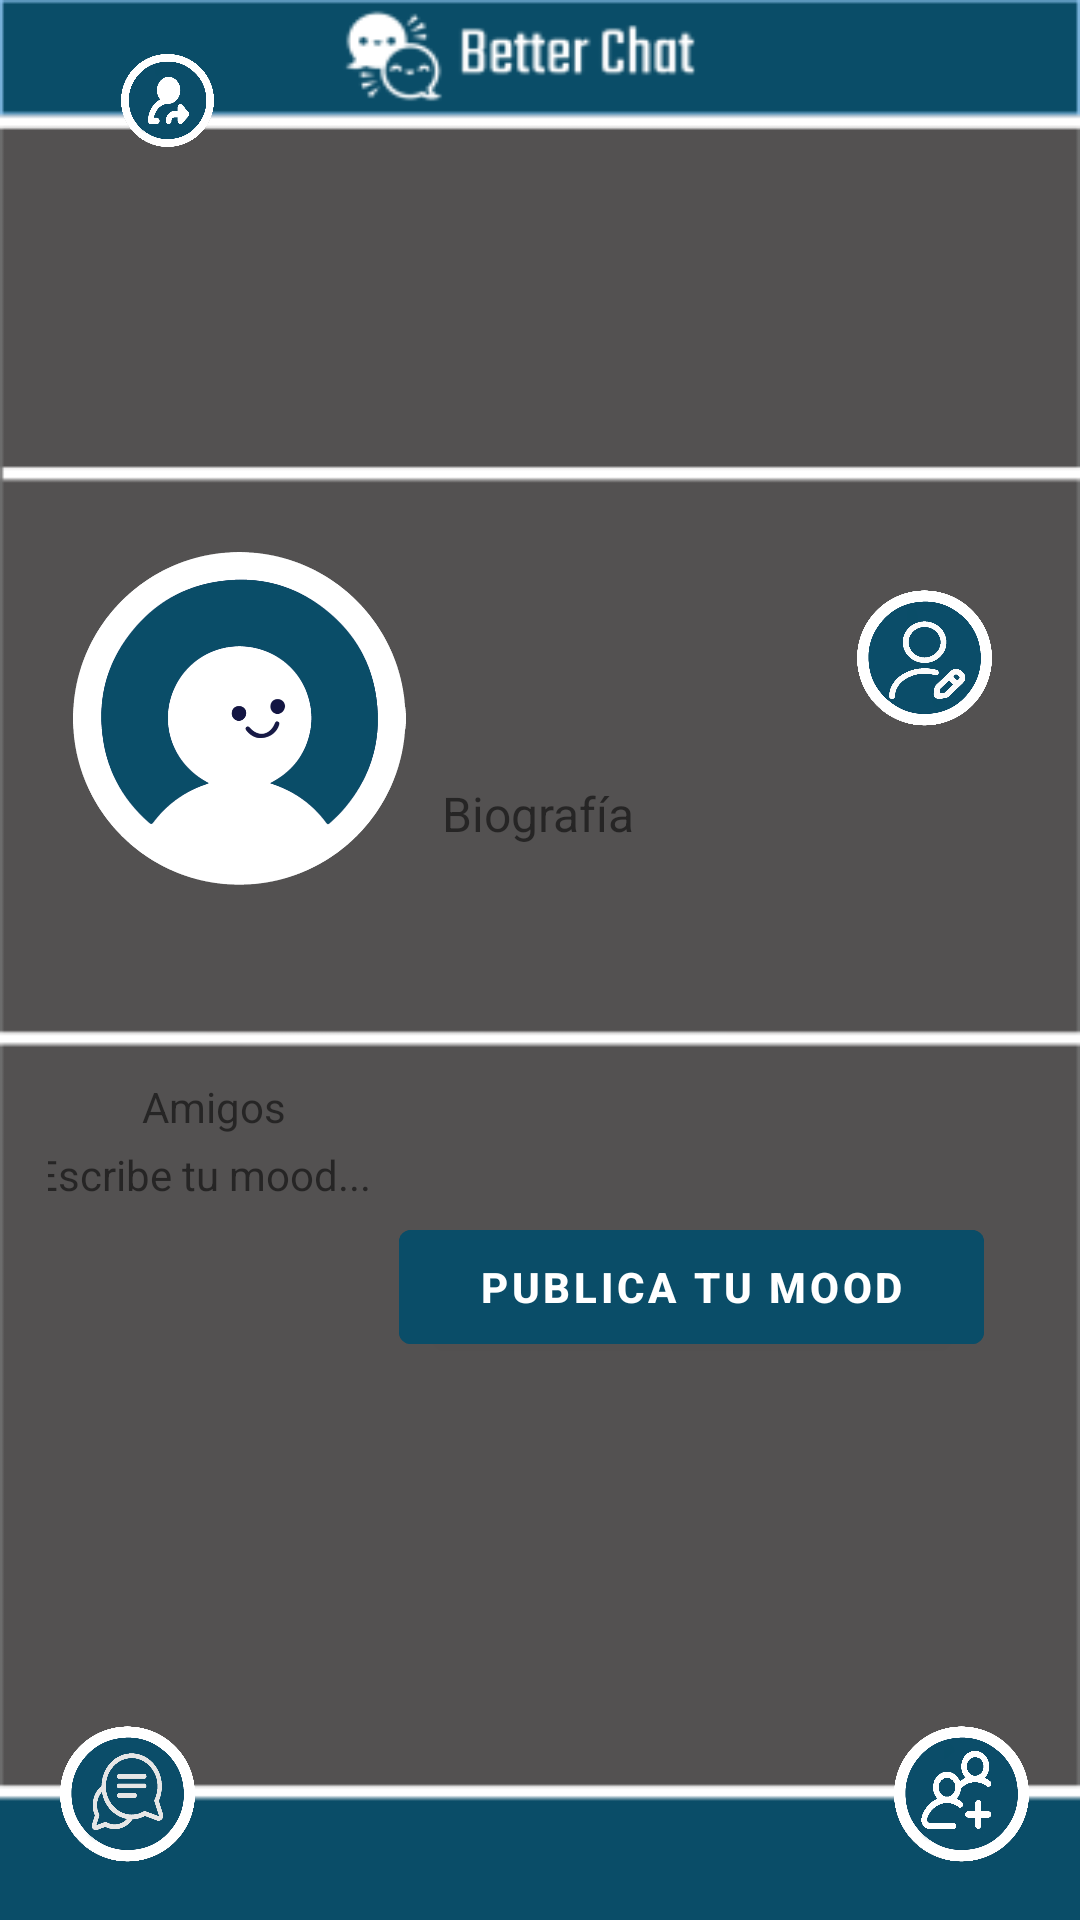

Named icons in this screenshot (1080*1920) and their centers, (x,y):
agregaramigo: (961,1794)
chats: (127,1794)
perfil edit: (924,658)
profile: (239,718)
